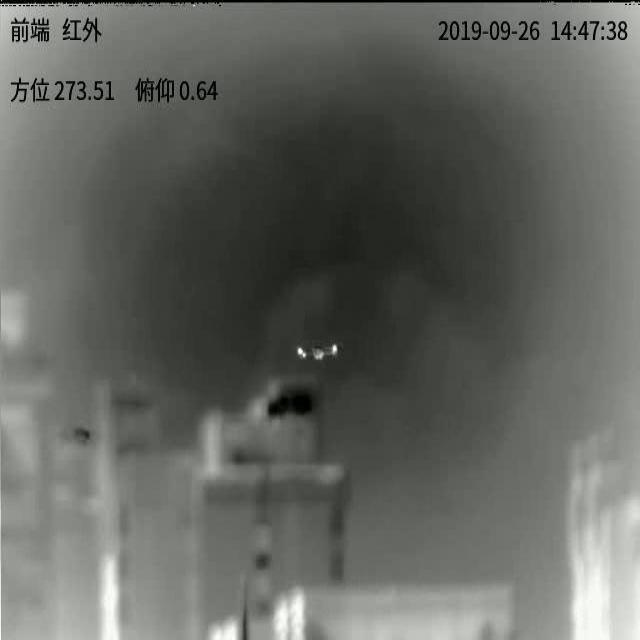drone: (296, 343, 339, 361)
